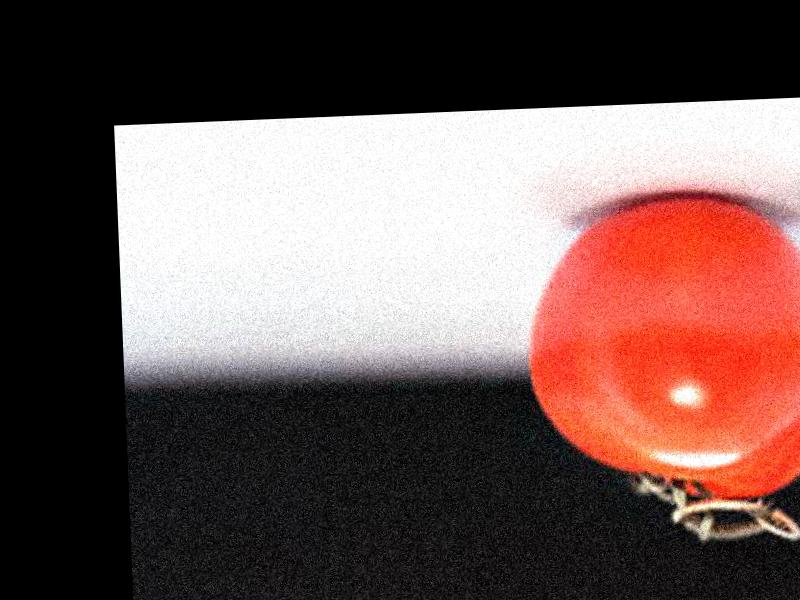Tomato: (521, 190, 800, 508)
